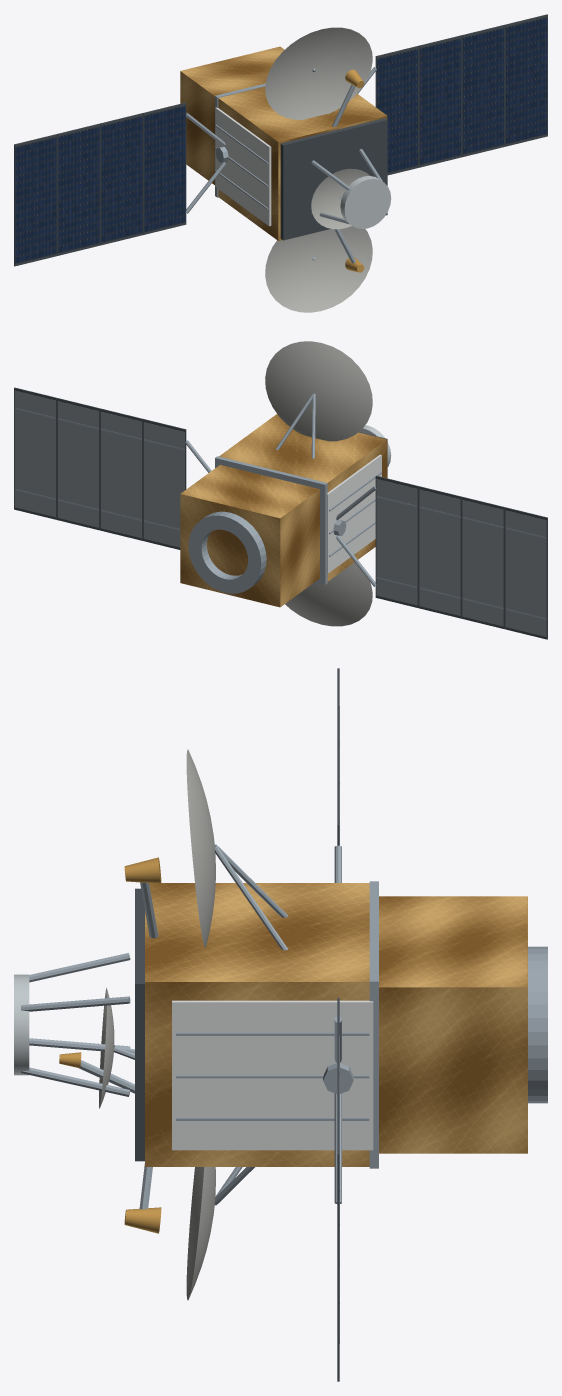
File: ref-as7000-22927.glb
3 renders of one model, top to bottom at view 1: azimuth 30°, elevation 25°; view 2: azimuth 150°, elevation 25°; view 3: azimuth 270°, elevation 25°, orthographic. The views are drawn at different scales.
Parts seen in each view (by area): view 1: Solar cell panel (×8), Communications reflector (×2), Earth-facing deck, Payload module, Service module, Solar panel frame (×8), Radiator face, Antenna tower platform, Deck-mounted reflector; view 2: Rear array substrate (×8), Service module, Communications reflector (×2), Payload module, Solar panel frame (×8), Launch adapter ring, Radiator face, Module interface; view 3: Service module, Payload module, Radiator face, Communications reflector (×2), Launch adapter ring, Earth-facing deck, Module interface, Antenna tower platform, Deck-mounted reflector, Antenna tower leg.
Part boxes in pixels (bbox=[...]): Solar cell panel (×8): bbox=[15, 17, 547, 263]; Communications reflector (×2): bbox=[265, 27, 372, 312]; Earth-facing deck: bbox=[280, 118, 387, 240]; Payload module: bbox=[218, 86, 387, 240]; Service module: bbox=[180, 46, 284, 184]; Solar panel frame (×8): bbox=[14, 14, 547, 266]; Radiator face: bbox=[215, 107, 271, 226]; Antenna tower platform: bbox=[340, 176, 391, 228]; Deck-mounted reflector: bbox=[311, 168, 369, 229]; Rear array substrate (×8): bbox=[14, 390, 546, 636]; Service module: bbox=[180, 465, 319, 607]; Communications reflector (×2): bbox=[265, 341, 372, 626]; Payload module: bbox=[219, 414, 387, 581]; Solar panel frame (×8): bbox=[14, 387, 547, 639]; Launch adapter ring: bbox=[188, 511, 266, 593]; Radiator face: bbox=[327, 454, 381, 573]; Module interface: bbox=[215, 456, 327, 584]; Service module: bbox=[379, 896, 527, 1153]; Payload module: bbox=[145, 883, 369, 1166]; Radiator face: bbox=[172, 1000, 373, 1150]; Communications reflector (×2): bbox=[186, 749, 215, 1300]; Launch adapter ring: bbox=[528, 946, 547, 1103]; Earth-facing deck: bbox=[135, 888, 144, 1161]; Module interface: bbox=[369, 881, 378, 1168]; Antenna tower platform: bbox=[14, 974, 29, 1075]; Deck-mounted reflector: bbox=[99, 987, 114, 1108]; Antenna tower leg: bbox=[21, 996, 130, 1011].
Size of the model in its own units: 10.79 by 5.45 by 5.01.
9 materials, 2 textured.
